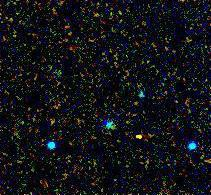star: (126, 121, 156, 151)
